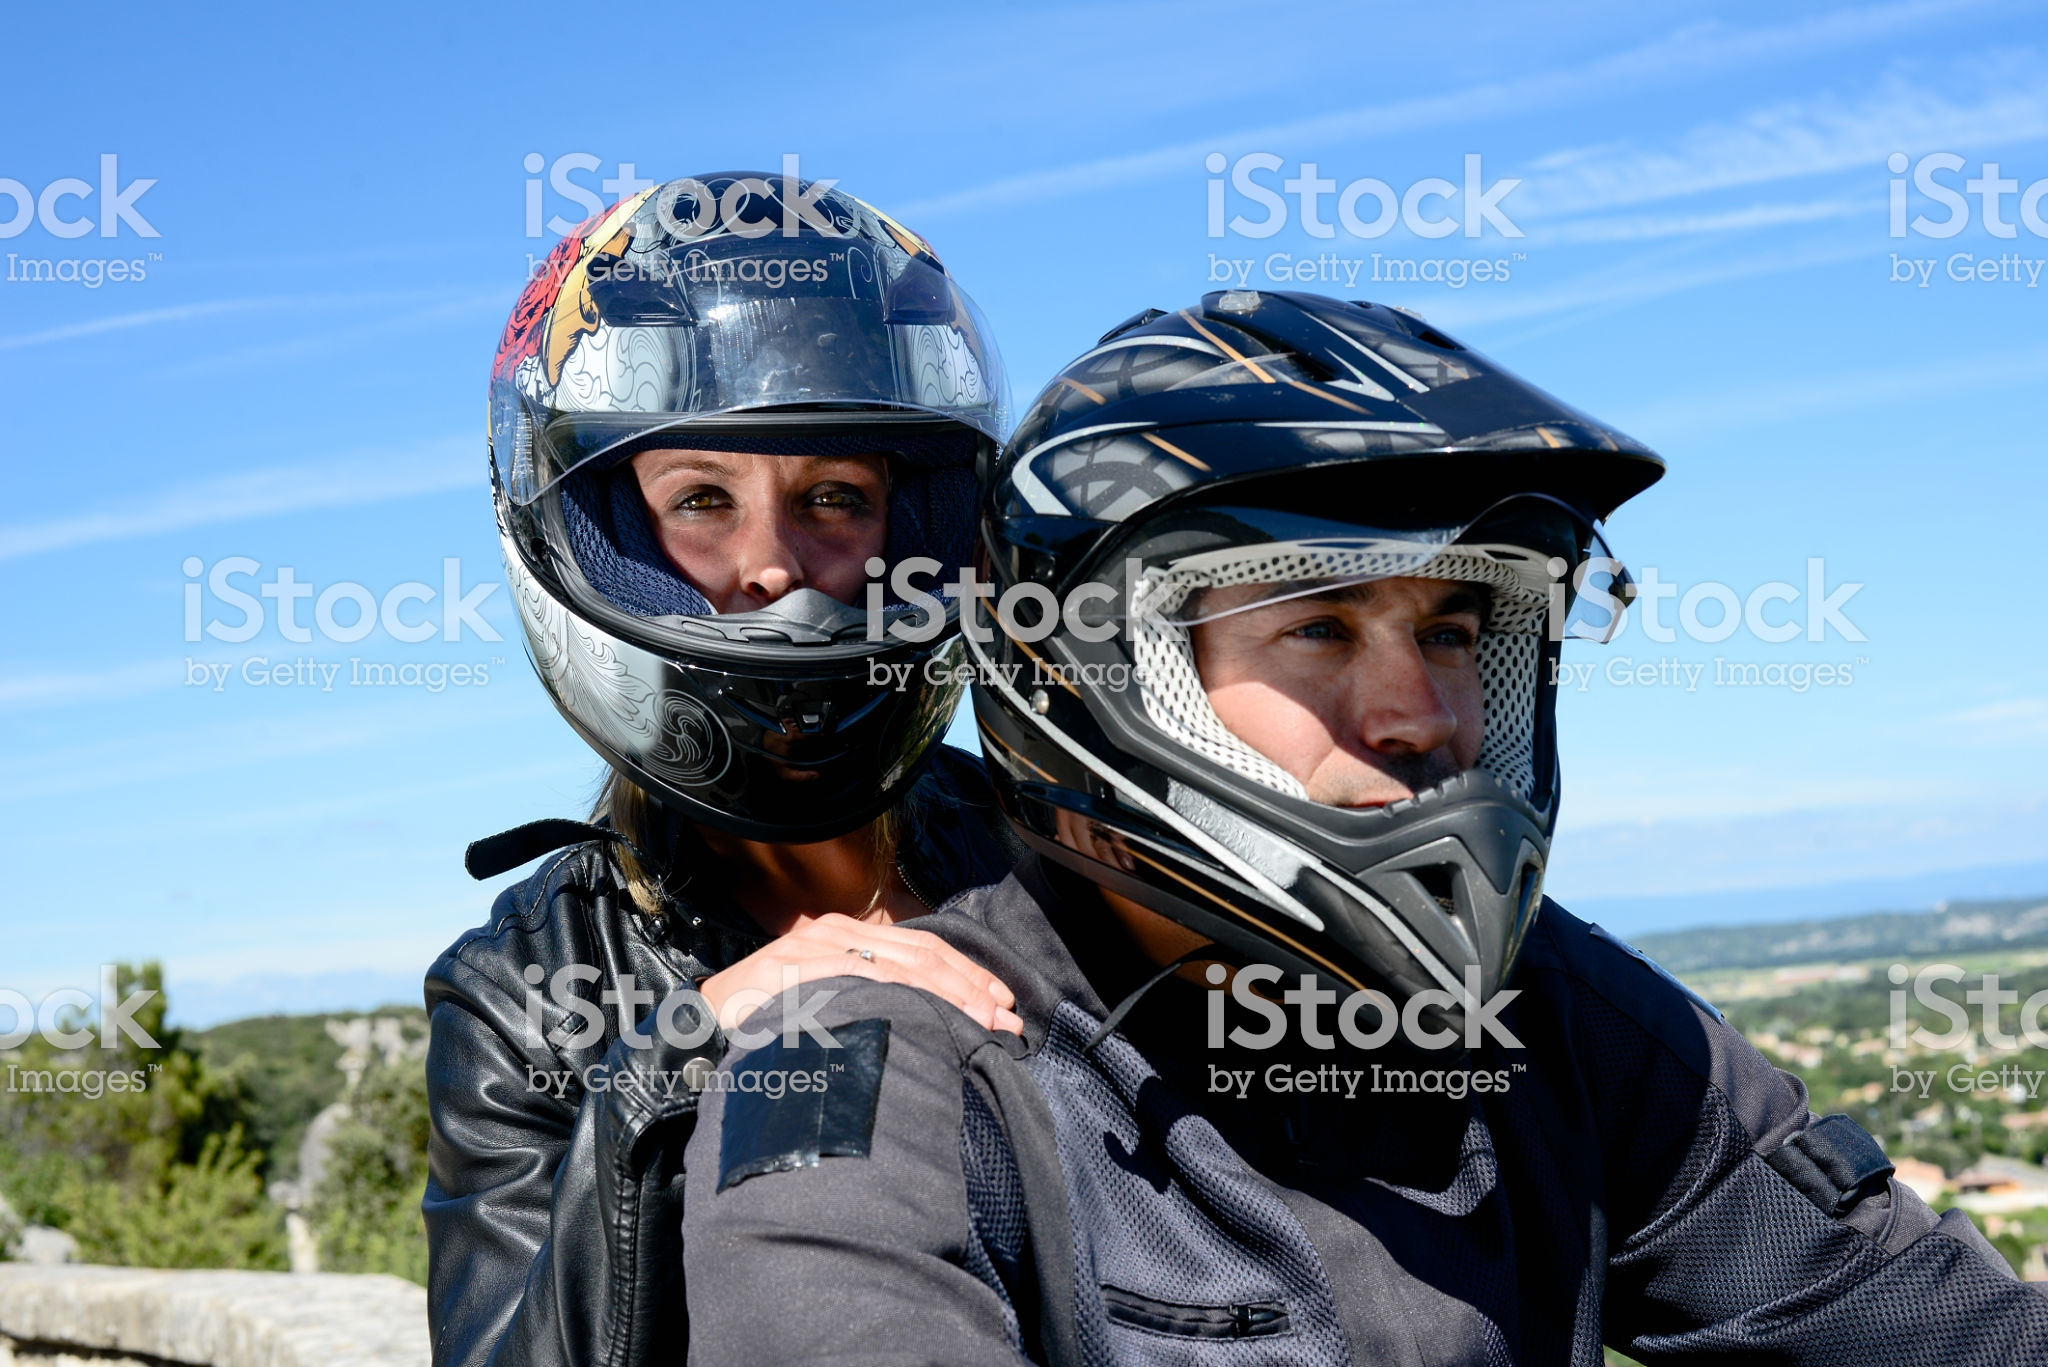helmet: (961, 247, 1650, 1007), (474, 168, 1025, 819)
